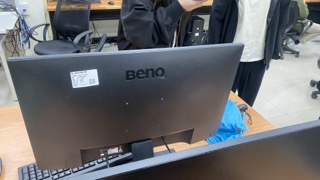screen: (7, 41, 246, 172)
